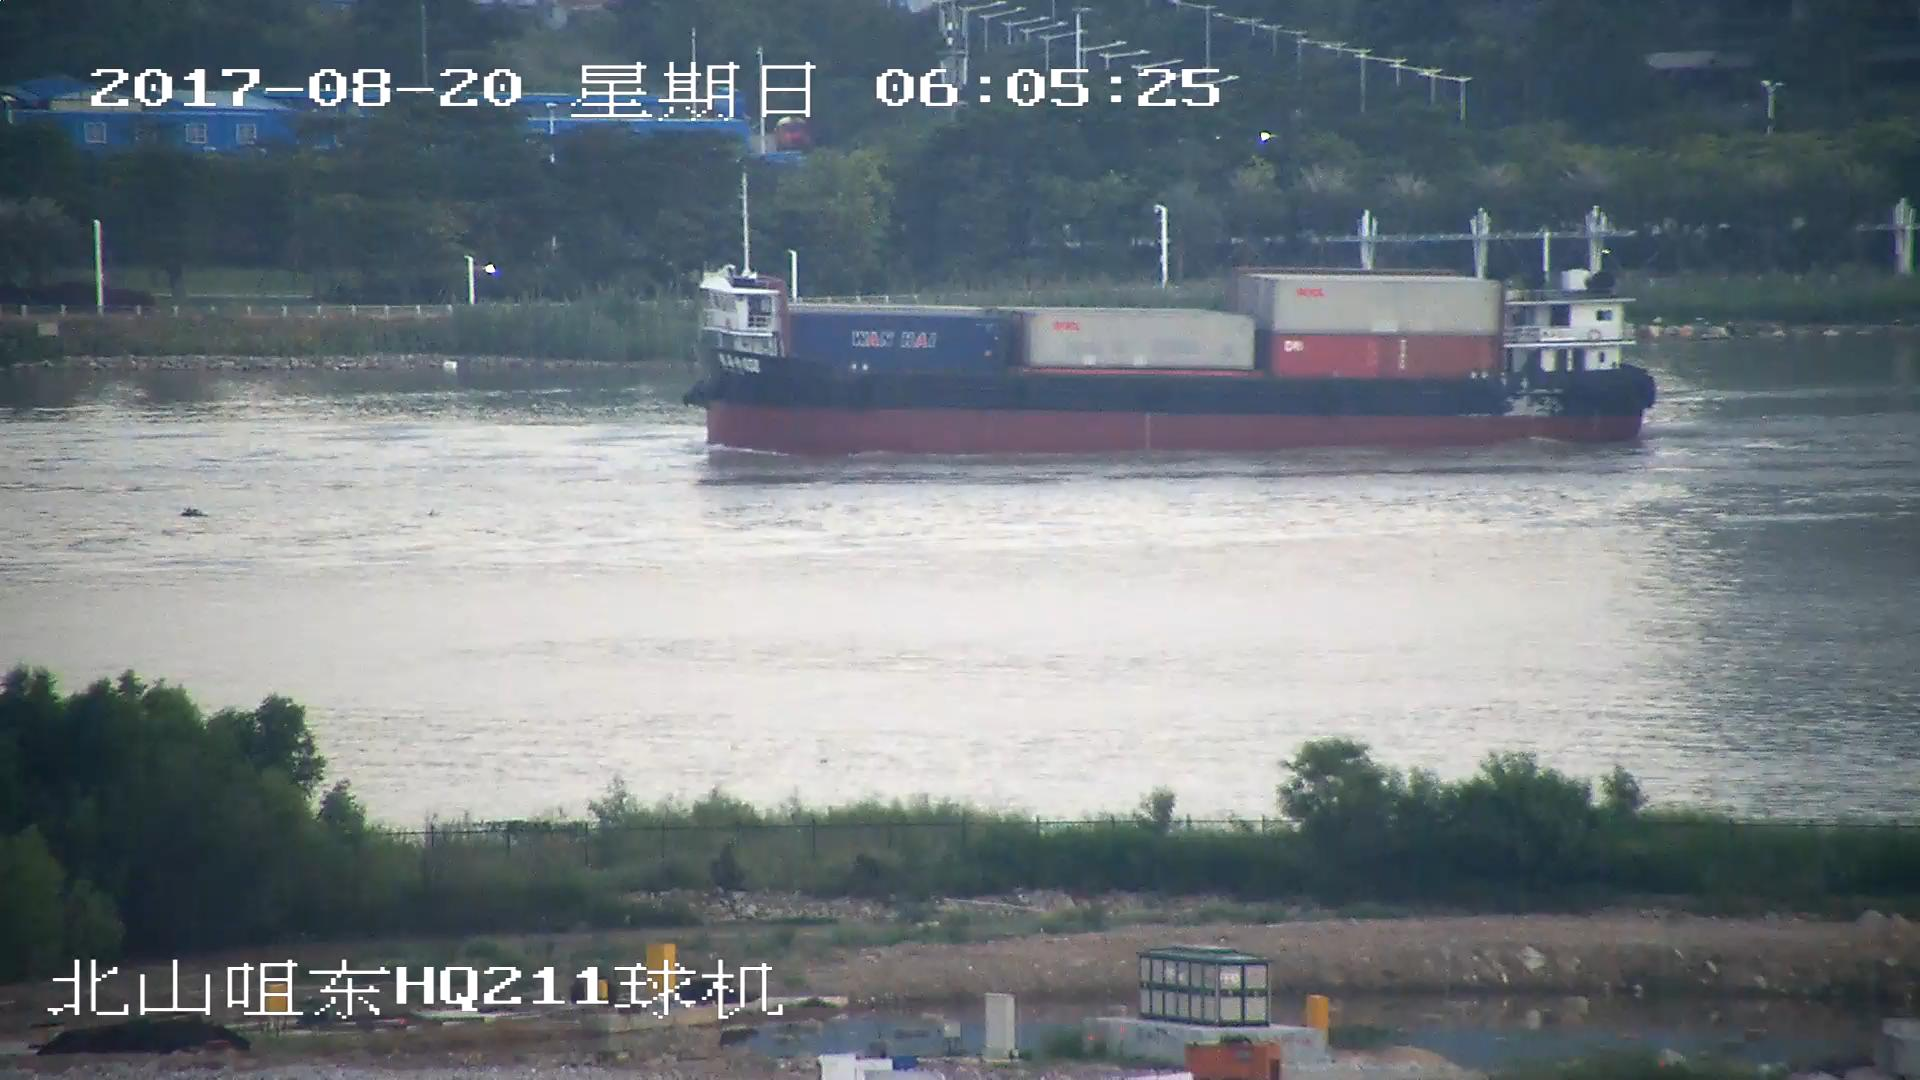container ship: (688, 177, 1656, 456)
